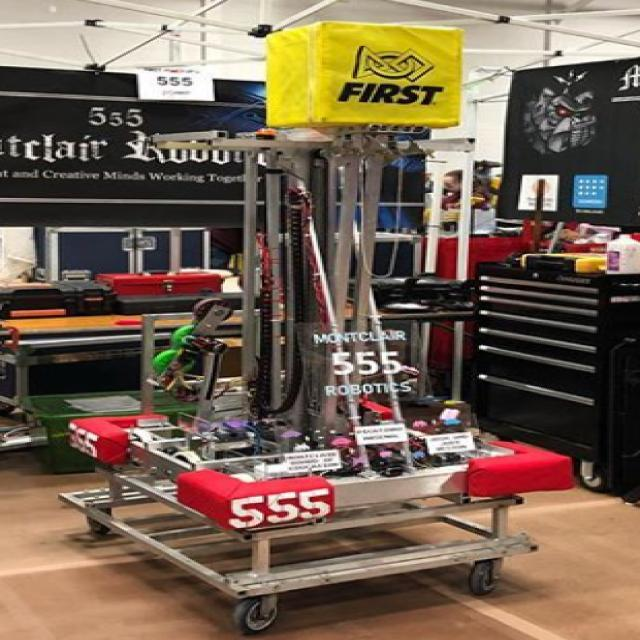robot: (65, 126, 581, 536)
